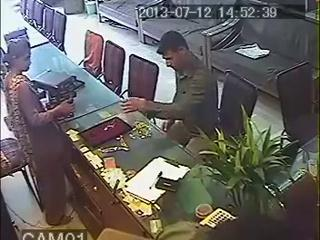Normal: (2, 37, 76, 226), (120, 30, 220, 146)
